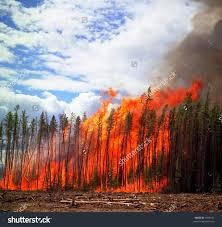fire: (1, 88, 185, 193)
